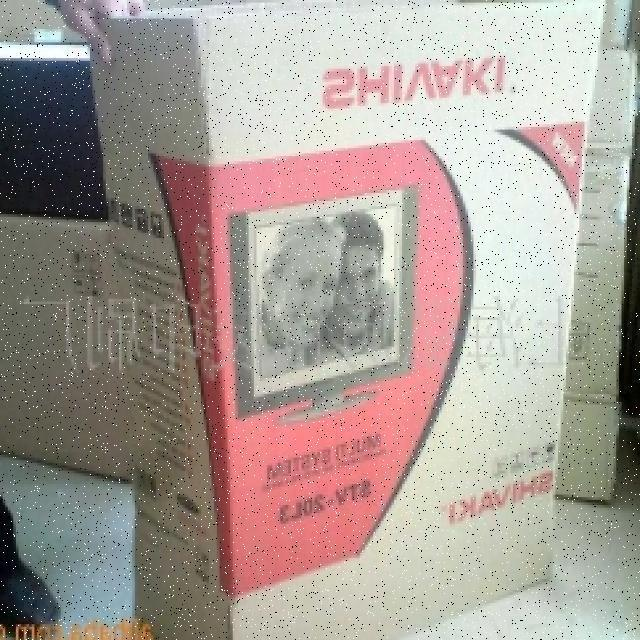box: (116, 0, 611, 640)
